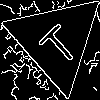T: (31, 15, 84, 70)
